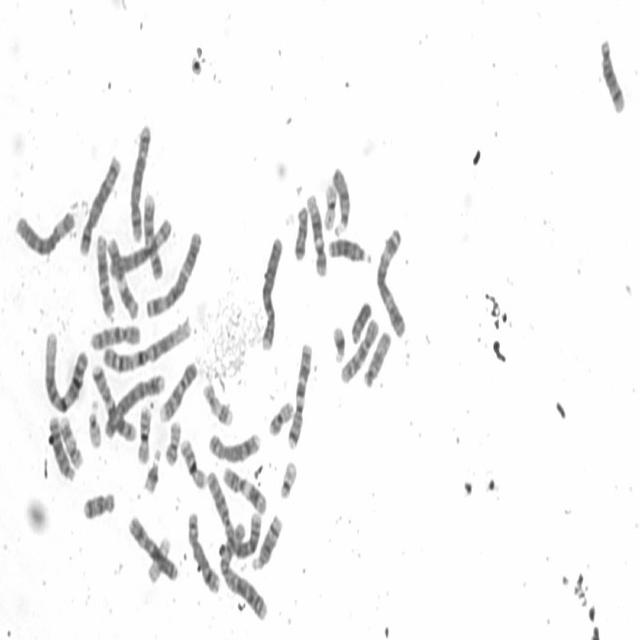A1: (100, 311, 194, 374), (40, 324, 90, 416)
A2: (217, 514, 270, 622), (204, 464, 262, 561)
A3: (144, 226, 203, 319), (373, 222, 408, 338)
B4: (101, 367, 166, 441), (258, 229, 285, 352)
B5: (77, 148, 122, 257), (127, 117, 153, 243)
C10: (337, 313, 380, 387), (88, 319, 142, 352)
C11: (105, 230, 142, 322), (219, 459, 268, 515)
C12: (305, 188, 328, 278), (94, 228, 116, 321)
C6: (108, 211, 174, 279), (12, 203, 77, 258)
C7: (90, 358, 138, 443), (285, 336, 314, 451)
C8: (185, 505, 221, 596), (205, 425, 262, 464)
C9: (156, 355, 198, 423), (140, 190, 165, 282)
D13: (45, 410, 77, 483), (325, 231, 373, 267)
D14: (597, 32, 627, 116), (250, 508, 284, 572)
D15: (361, 324, 393, 388), (330, 160, 352, 236)
E16: (178, 432, 208, 492), (135, 399, 153, 465)
E17: (200, 376, 235, 427), (56, 410, 84, 470)
E18: (80, 485, 116, 522), (291, 200, 309, 262)
F19: (145, 531, 173, 585), (321, 178, 338, 231)
F20: (266, 395, 295, 437), (162, 414, 182, 468)
G21: (141, 443, 161, 496), (330, 320, 347, 364)
G22: (277, 455, 298, 500), (86, 397, 103, 450)
X: (126, 511, 180, 584)
Y: (348, 295, 374, 346)
